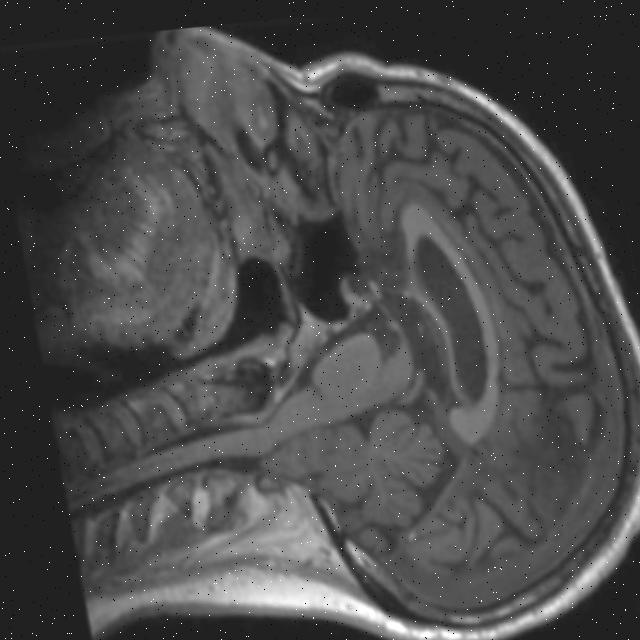NoTumor: (237, 60, 640, 640)
